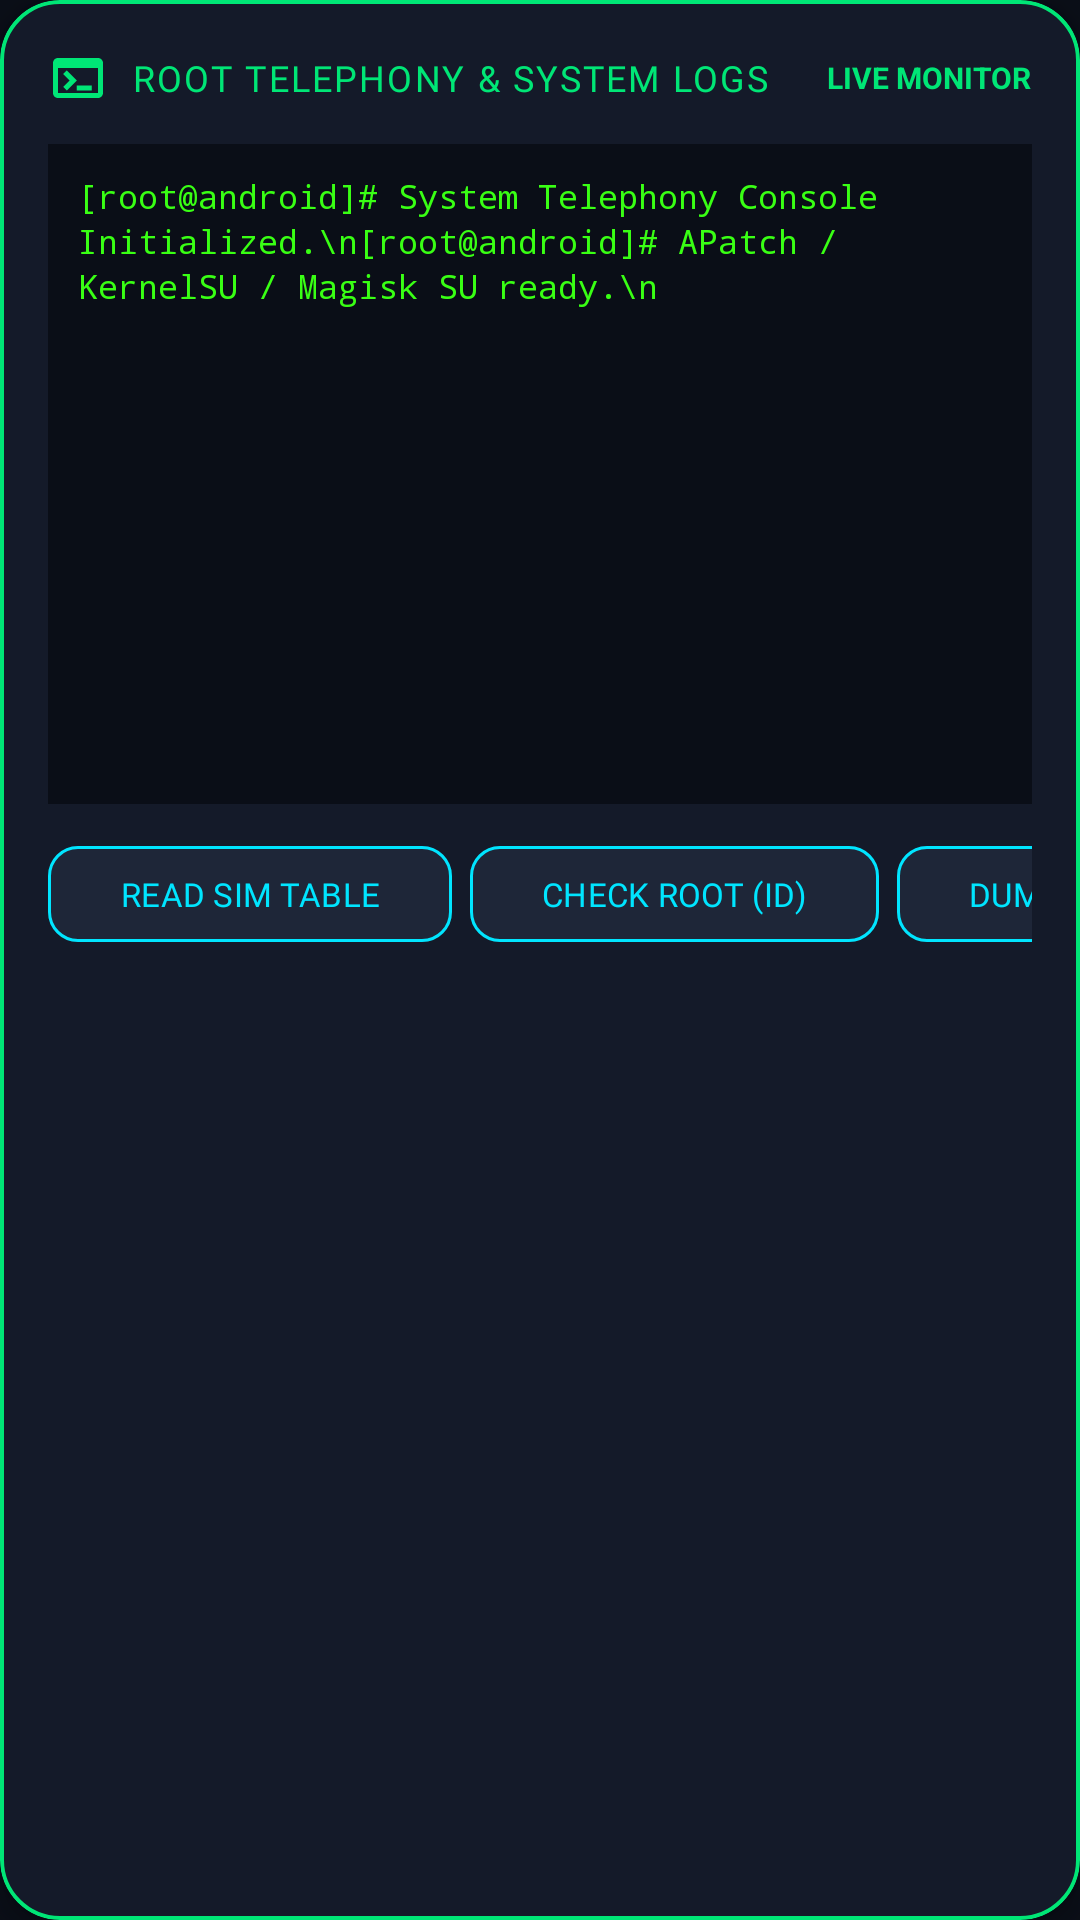

Named icons in this screenshot (1080*1920) and their bounding boxes, (x1, y1, x2, y2):
terminal: (53, 58, 103, 98)
